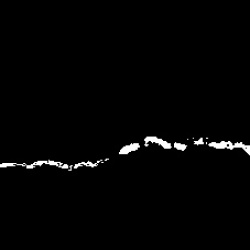crack: (4, 137, 249, 170)
